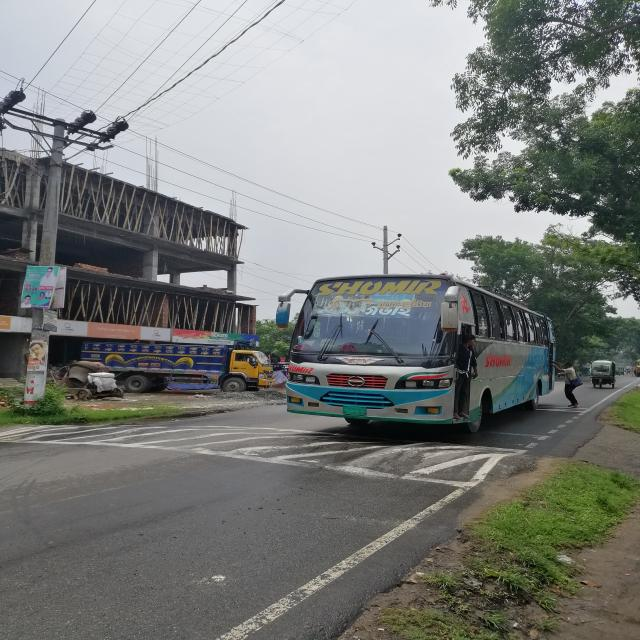Bus: (276, 275, 566, 433)
